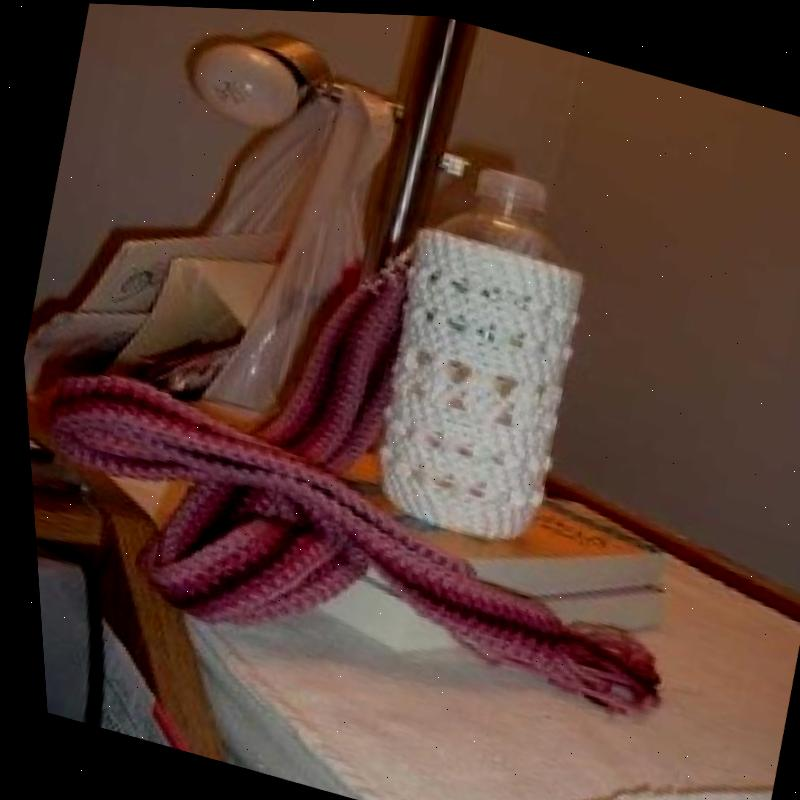botella: (429, 149, 579, 261)
